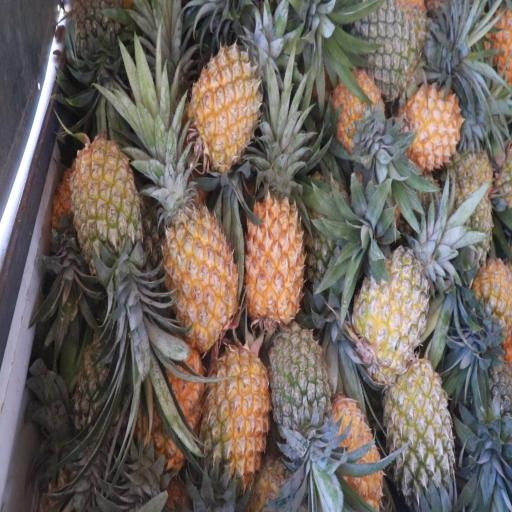------------------------------: (357, 250, 431, 380), (387, 367, 453, 506)
Pineapple - v8 v1: (158, 180, 234, 337), (72, 134, 140, 276), (191, 40, 264, 166), (203, 351, 269, 482), (246, 176, 305, 322), (140, 353, 203, 470), (330, 405, 384, 512), (403, 88, 461, 168), (331, 74, 384, 154), (470, 256, 512, 350)
